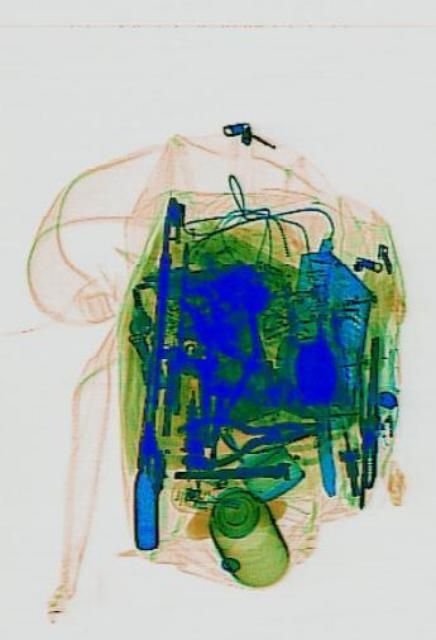Pliers: (172, 398, 318, 472)
